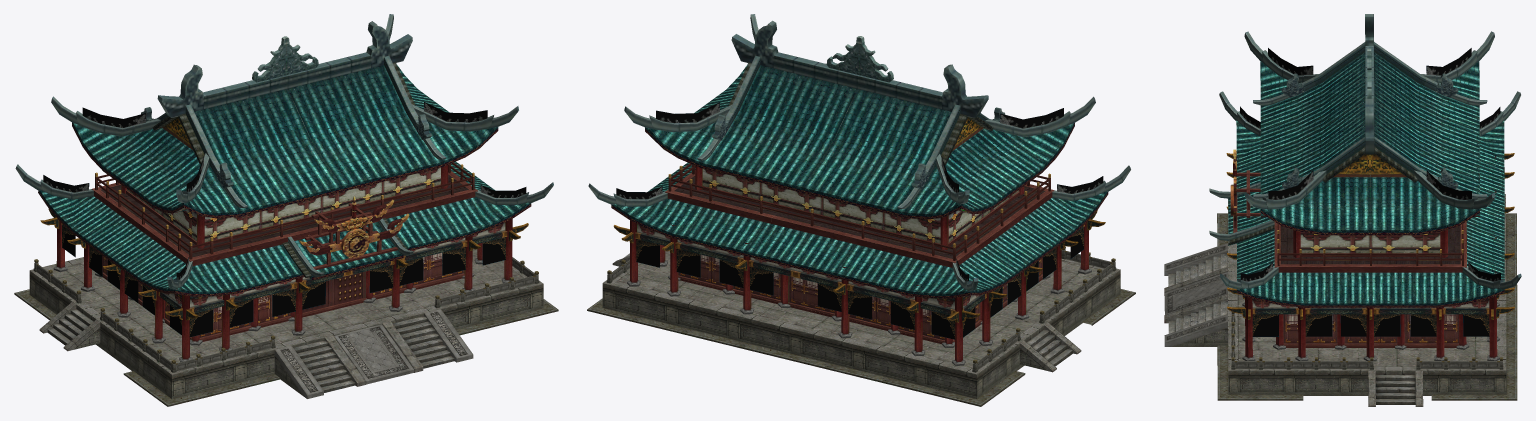
The model's file is d_lianqi_fangzi01_jz.FBX.
3 renders of one model, left to right at view 1: azimuth 30°, elevation 25°; view 2: azimuth 150°, elevation 25°; view 3: azimuth 270°, elevation 25°, orthographic. The views are drawn at different scales.
Parts seen in each view (by area): view 1: d_lianqi_fangzi01_jz_A01, d_lianqi_fangzi01_jz_A02, d_lianqi_fangzi01_jz_B; view 2: d_lianqi_fangzi01_jz_A01, d_lianqi_fangzi01_jz_A02, d_lianqi_fangzi01_jz_B; view 3: d_lianqi_fangzi01_jz_A01, d_lianqi_fangzi01_jz_A02, d_lianqi_fangzi01_jz_B.
Part boxes in pixels (box(x1,y1,x2,y2)): d_lianqi_fangzi01_jz_A01: box(15, 14, 553, 362); d_lianqi_fangzi01_jz_A02: box(14, 249, 558, 406); d_lianqi_fangzi01_jz_B: box(43, 102, 526, 337); d_lianqi_fangzi01_jz_A01: box(588, 14, 1130, 365); d_lianqi_fangzi01_jz_A02: box(587, 246, 1135, 406); d_lianqi_fangzi01_jz_B: box(616, 102, 1103, 339); d_lianqi_fangzi01_jz_A01: box(1209, 14, 1521, 361); d_lianqi_fangzi01_jz_A02: box(1164, 184, 1517, 406); d_lianqi_fangzi01_jz_B: box(1233, 48, 1500, 336).
Size of the model in its own units: 2664 by 1542 by 1933.
